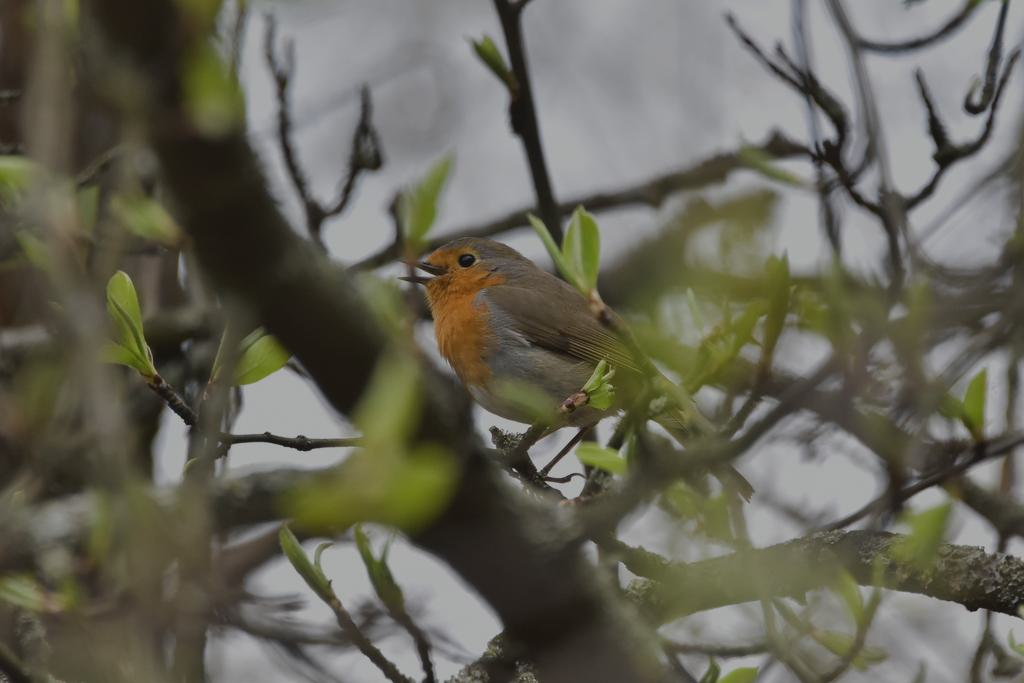ErithacusRubecula: (396, 235, 756, 504)
